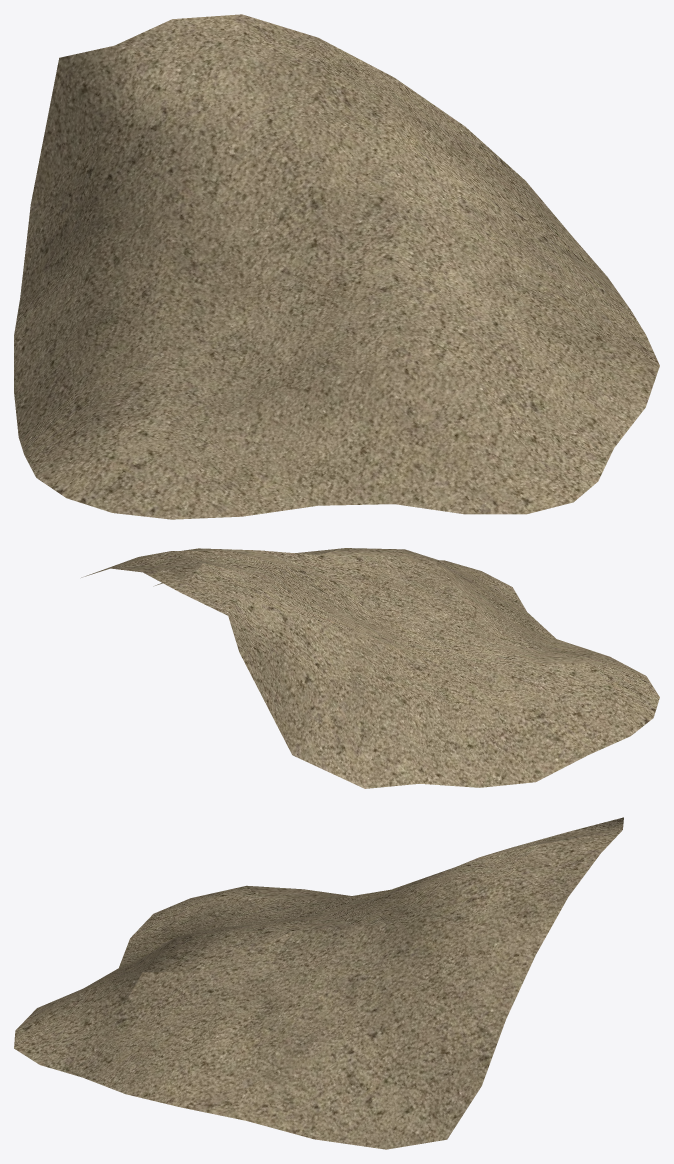
Rendered from tw2_5_dun_addon_01_2-transformed.glb.
3 renders of one model, top to bottom at view 1: azimuth 30°, elevation 25°; view 2: azimuth 150°, elevation 25°; view 3: azimuth 270°, elevation 25°, orthographic. The views are drawn at different scales.
Parts seen in each view (by area): view 1: 5_DUN_ADDONS_01_2; view 2: 5_DUN_ADDONS_01_2; view 3: 5_DUN_ADDONS_01_2.
Part boxes in pixels (x1,y1,x2,y2): 5_DUN_ADDONS_01_2: (14,14,659,519); 5_DUN_ADDONS_01_2: (81,548,659,788); 5_DUN_ADDONS_01_2: (14,817,623,1149).
Size of the model in its own units: 3.54 by 1.34 by 3.66.
Materials: 1 (1 with a texture image).
